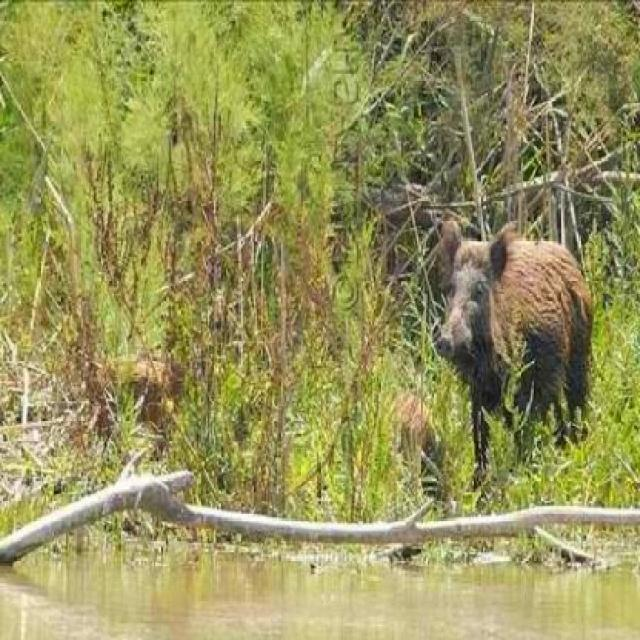Boar: (343, 202, 614, 543)
